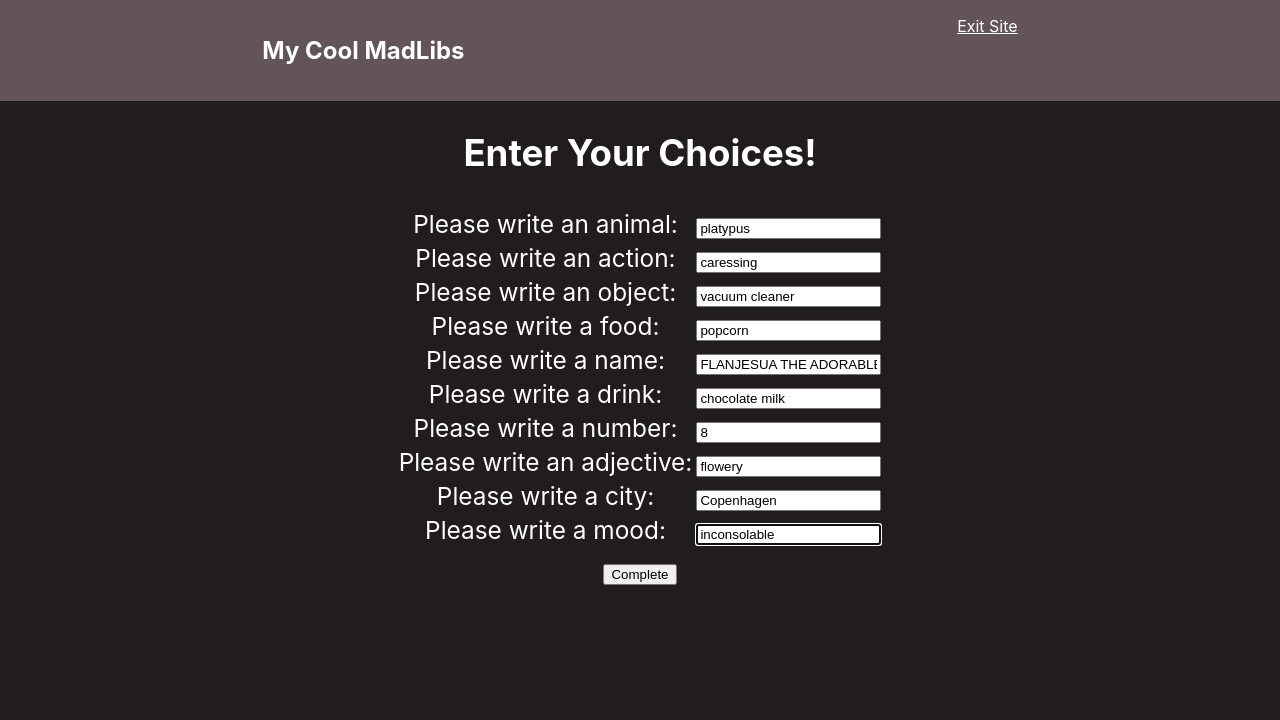
Test case: The madlibs main form › shows the completed story with out input data
Click the button "Complete".
click(641, 575)  # box [604,564,677,585]
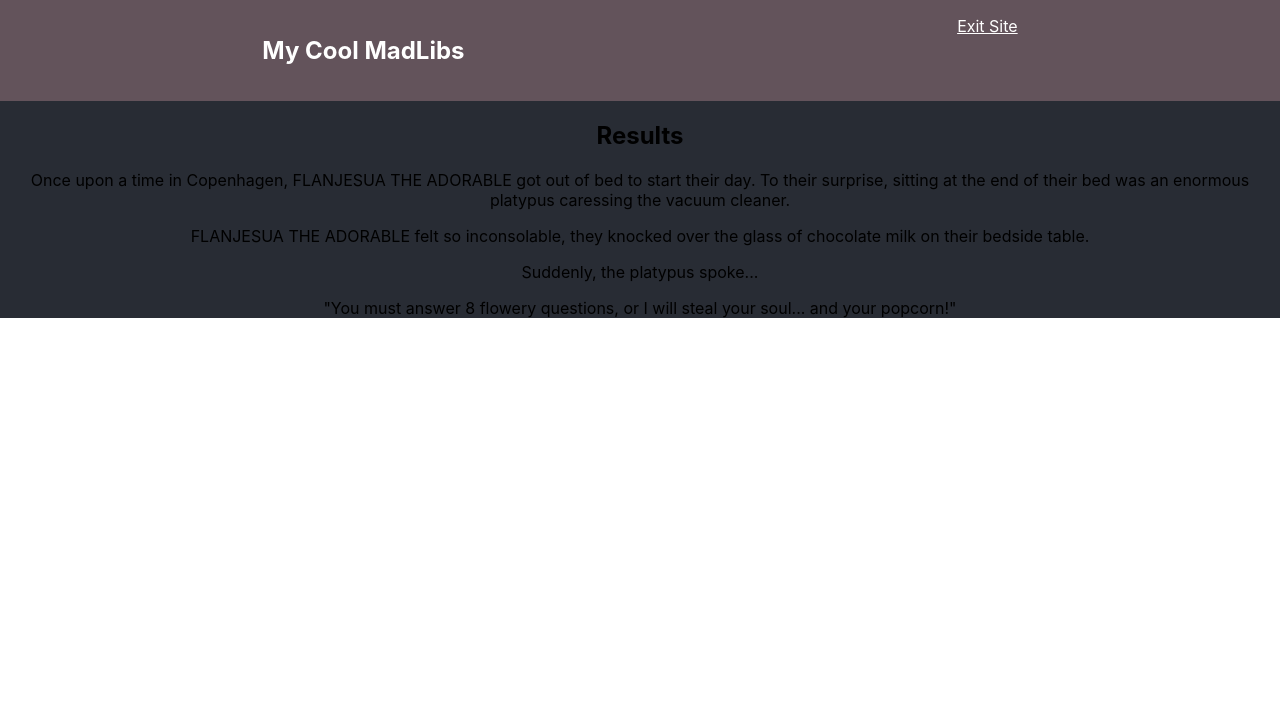
Result: the heading "Results" is shown at [596,121,684,150]
